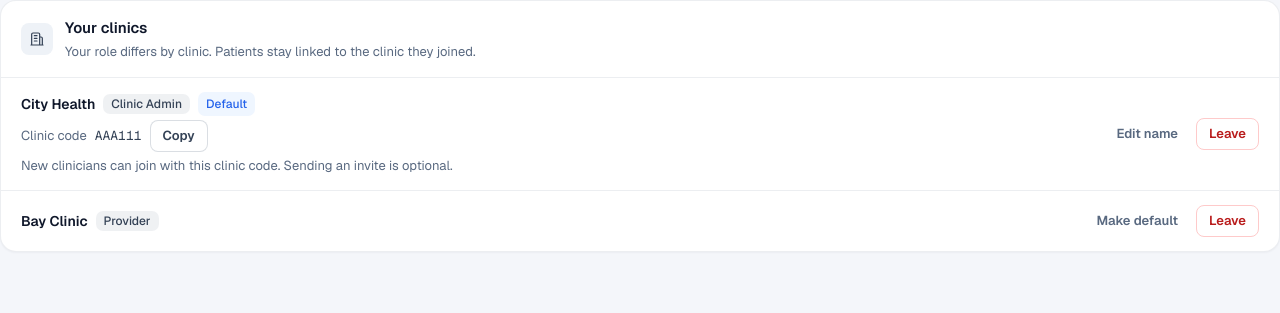
Test case: Your clinics card › makes another clinic the default without leaving anything
Click the button with aria-label "Make Bay Clinic your default clinic" at (1137, 220), box [1084,204,1190,236]
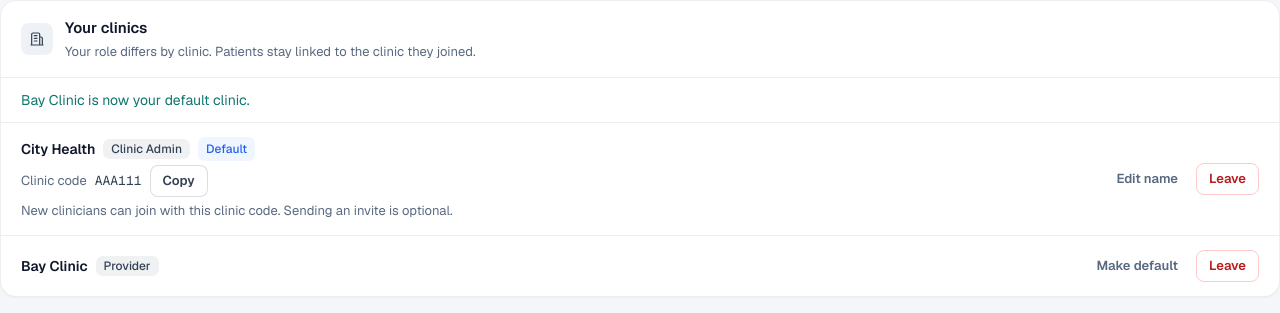
Expected: the text "Bay Clinic is now your default clinic." is shown, [1,78,1279,123]
